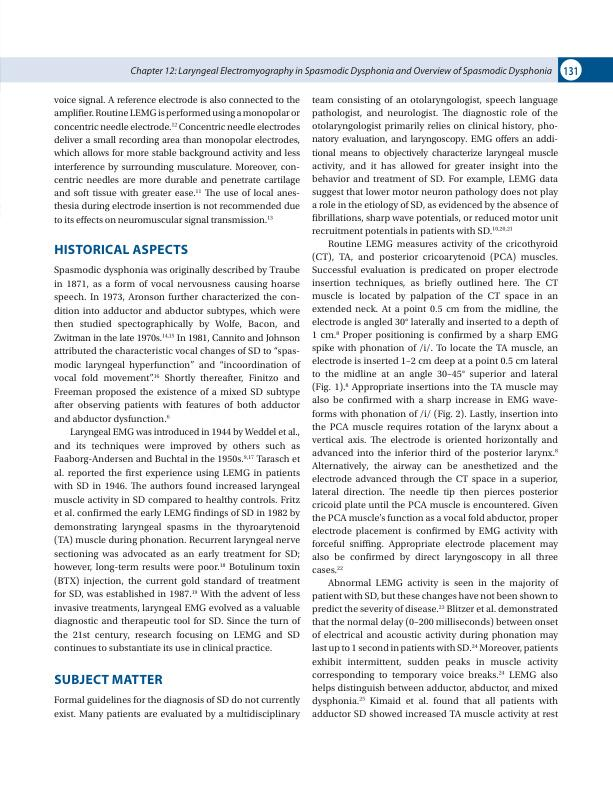header: (129, 65, 553, 77)
section-heading: (52, 241, 190, 256), (54, 673, 164, 685)
text: (311, 94, 560, 720), (51, 264, 302, 656), (52, 94, 302, 226), (52, 693, 301, 721)
